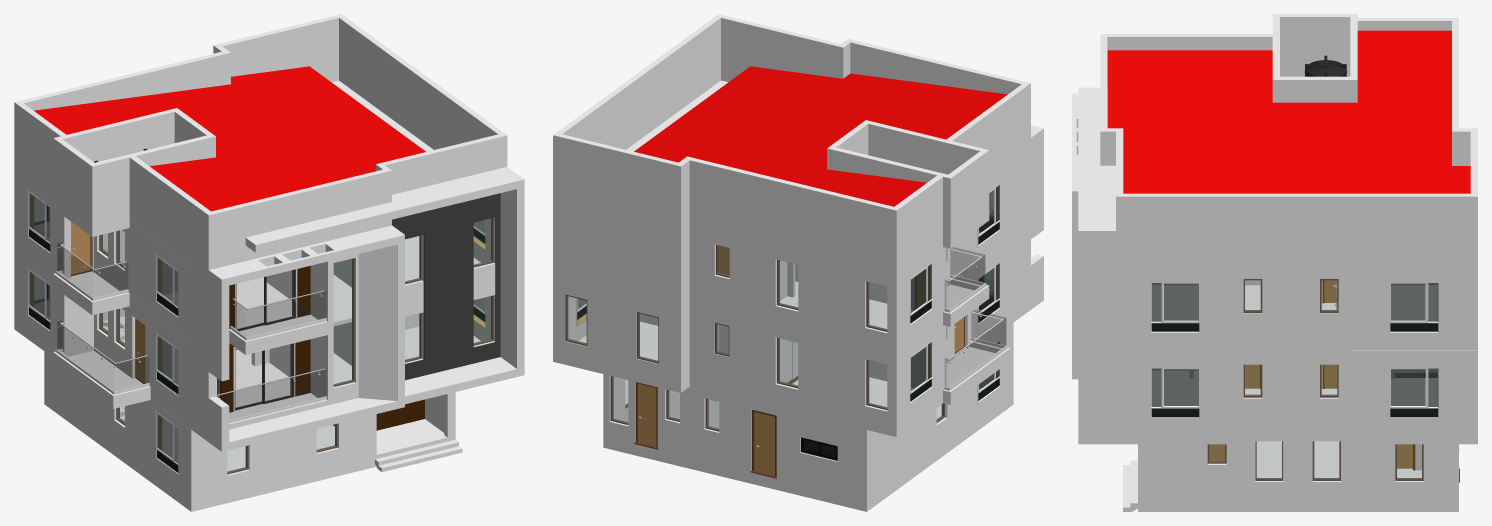
Rendered from DunDun5.glb.
3 renders of one model, left to right at view 1: azimuth 30°, elevation 25°; view 2: azimuth 150°, elevation 25°; view 3: azimuth 270°, elevation 25°, orthographic. The views are drawn at different scales.
Parts seen in each view (by area): view 1: FootPrintRoof Roofs <1654541 Generic Roof - 300mm<, FamilyInstance Casework Casework 2 <1657010 Casework 2<, FamilyInstance Casework Casework 1 <1655049 Casework 1<, Wall Walls <1542127 230 DARK GREY<, Wall Walls <1652191 230<, Wall Walls <1542121 230 DARK GREY<, Wall Walls <1652209 230<, FamilyInstance Windows Aluminum_Exterior_Window_-_1_wide_x_2 (×5), Wall Walls <1652215 230<, Wall Walls <1550756 230<, Wall Walls <1652167 230<, Floor Floors <1551401 Generic 150mm< (+42 smaller); view 2: FootPrintRoof Roofs <1654541 Generic Roof - 300mm<, Wall Walls <1542109 230 DARK GREY<, Wall Walls <1546883 230<, Wall Walls <1550750 230<, Wall Walls <1652268 230<, Wall Walls <1609183 230<, Wall Walls <1611899 230<, Wall Walls <1652191 230<, Wall Walls <1652167 230<, Wall Walls <1542121 230 DARK GREY<, FamilyInstance Windows Aluminum_Exterior_Window_-_1_wide_x_2 (×7), Wall Walls <1652197 230< (+30 smaller); view 3: FootPrintRoof Roofs <1654541 Generic Roof - 300mm<, Wall Walls <1652191 230<, Wall Walls <1542115 230 DARK GREY<, FamilyInstance Casework Casework 2 <1657010 Casework 2<, Wall Walls <1546889 230 DARK GREY<, Wall Walls <1577888 230<, Wall Walls <1606578 230<, Wall Walls <1577620 230<, Wall Walls <1583614 230<, Wall Walls <1550786 230 DARK GREY<, FamilyInstance Windows Aluminum_Exterior_Window_-_1_wide_x_2 (×7), Wall Walls <1652233 230 DARK GREY< (+26 smaller).
Boxes of the visible parts, <box> form: FootPrintRoof Roofs <1654541 Generic Roof - 300mm<: <box>34,66,425,211</box>; FamilyInstance Casework Casework 2 <1657010 Casework 2<: <box>245,167,524,404</box>; FamilyInstance Casework Casework 1 <1655049 Casework 1<: <box>208,225,404,451</box>; Wall Walls <1542127 230 DARK GREY<: <box>197,393,449,510</box>; Wall Walls <1652191 230<: <box>339,16,507,167</box>; Wall Walls <1542121 230 DARK GREY<: <box>47,354,197,511</box>; Wall Walls <1652209 230<: <box>211,169,386,268</box>; FamilyInstance Windows Aluminum_Exterior_Window_-_1_wide_x_2 (×5): <box>333,218,493,386</box>; Wall Walls <1652215 230<: <box>129,156,214,277</box>; Wall Walls <1550756 230<: <box>94,220,191,342</box>; Wall Walls <1652167 230<: <box>213,14,344,82</box>; Floor Floors <1551401 Generic 150mm<: <box>47,316,480,419</box>; FootPrintRoof Roofs <1654541 Generic Roof - 300mm<: <box>634,66,1007,206</box>; Wall Walls <1542109 230 DARK GREY<: <box>603,374,870,511</box>; Wall Walls <1546883 230<: <box>689,301,899,437</box>; Wall Walls <1550750 230<: <box>689,223,890,349</box>; Wall Walls <1652268 230<: <box>684,156,893,271</box>; Wall Walls <1609183 230<: <box>553,198,675,305</box>; Wall Walls <1611899 230<: <box>553,276,684,392</box>; Wall Walls <1652191 230<: <box>556,14,723,149</box>; Wall Walls <1652167 230<: <box>553,133,684,228</box>; Wall Walls <1542121 230 DARK GREY<: <box>870,323,1013,508</box>; FamilyInstance Windows Aluminum_Exterior_Window_-_1_wide_x_2 (×7): <box>565,259,887,424</box>; Wall Walls <1652197 230<: <box>721,15,840,81</box>; FootPrintRoof Roofs <1654541 Generic Roof - 300mm<: <box>1107,30,1470,193</box>; Wall Walls <1652191 230<: <box>1116,193,1470,273</box>; Wall Walls <1542115 230 DARK GREY<: <box>1138,441,1451,511</box>; FamilyInstance Casework Casework 2 <1657010 Casework 2<: <box>1078,87,1115,444</box>; Wall Walls <1546889 230 DARK GREY<: <box>1243,347,1350,441</box>; Wall Walls <1577888 230<: <box>1123,350,1243,444</box>; Wall Walls <1606578 230<: <box>1116,265,1243,350</box>; Wall Walls <1577620 230<: <box>1357,350,1470,444</box>; Wall Walls <1583614 230<: <box>1350,265,1470,350</box>; Wall Walls <1550786 230 DARK GREY<: <box>1243,273,1350,347</box>; FamilyInstance Windows Aluminum_Exterior_Window_-_1_wide_x_2 (×7): <box>1243,279,1423,480</box>; Wall Walls <1652233 230 DARK GREY<: <box>1280,14,1350,76</box>.
Size of the model in its own units: 13.77 by 11.85 by 12.92.
